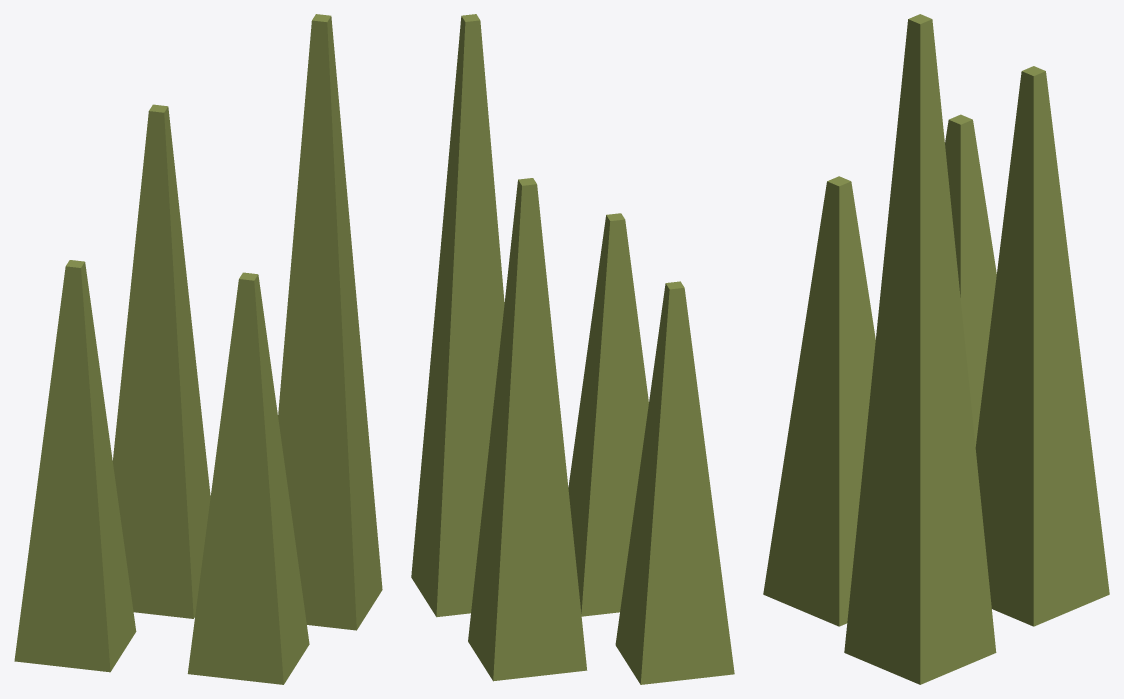
File: grass_tuft_large.glb
The picture shows the model from 3 angles, left to right: view 1: azimuth 30°, elevation 25°; view 2: azimuth 150°, elevation 25°; view 3: azimuth 270°, elevation 25°; orthographic projection. The views are drawn at different scales.
Visible parts, largest first — view 1: grass_tuft_large; view 2: grass_tuft_large; view 3: grass_tuft_large.
Boxes of the visible parts, x1=… form: grass_tuft_large: x1=14, y1=14, x2=382, y2=684; grass_tuft_large: x1=411, y1=14, x2=734, y2=684; grass_tuft_large: x1=763, y1=14, x2=1109, y2=684.
Size of the model in its own units: 0.5375 by 0.8625 by 0.4275.
